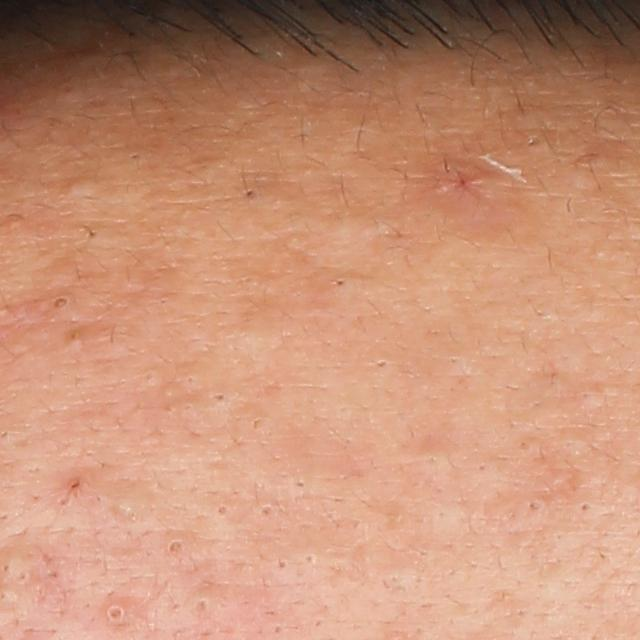comedo: (99, 598, 132, 630), (63, 173, 98, 201), (164, 537, 189, 559), (255, 501, 278, 522), (214, 501, 235, 520), (51, 293, 72, 312), (329, 276, 350, 293), (272, 556, 291, 574), (240, 184, 260, 201), (371, 356, 391, 373), (576, 498, 594, 515), (300, 550, 317, 567), (209, 390, 229, 404)
